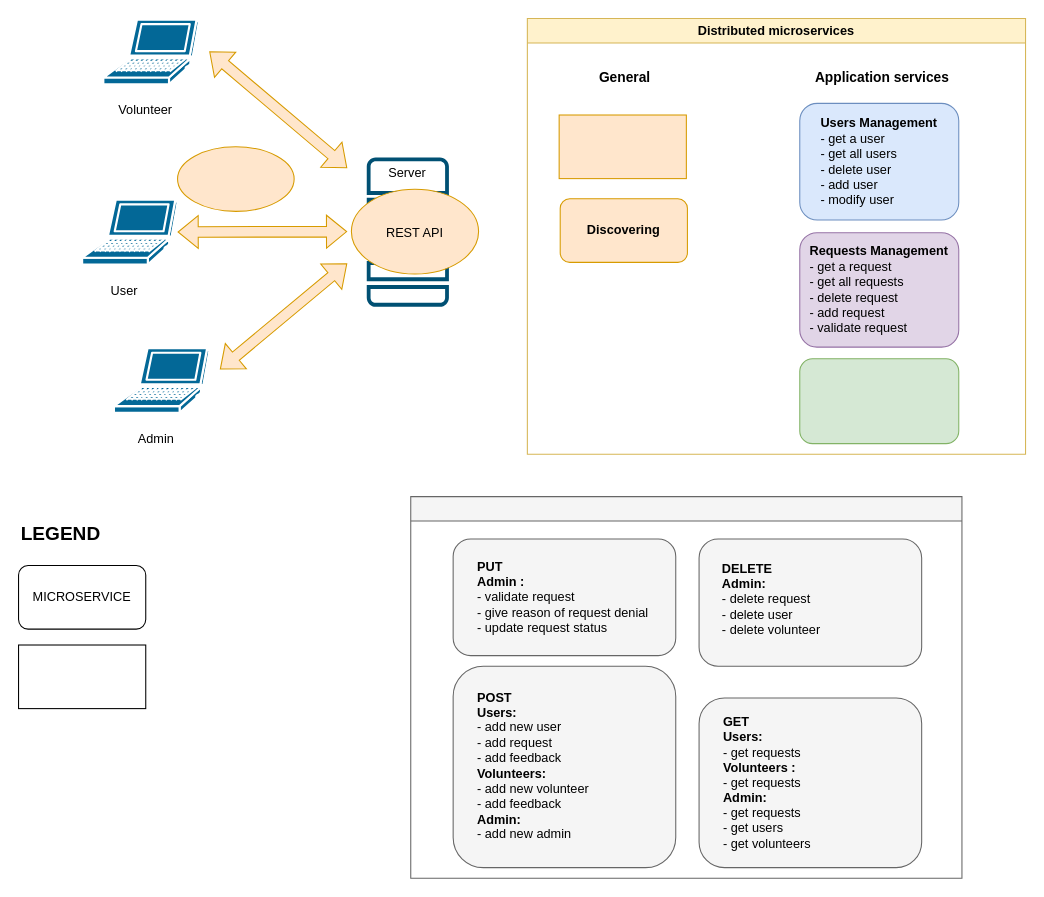
The diagram is 1044 pixels wide and 897 high, and some of its shapes have lost their labels. The shapes that lost their labels are listed below. From the top down, each one's centre as x and y in pixels, then its label:
At (x=622, y=146): "Centralized Database".
At (x=235, y=178): "REST Requests and Responses".
At (x=879, y=401): "Configuration service - keep database credits".
At (x=81, y=676): "DATABASE".
At (x=686, y=687): "Reminder: REST methods of the API".
